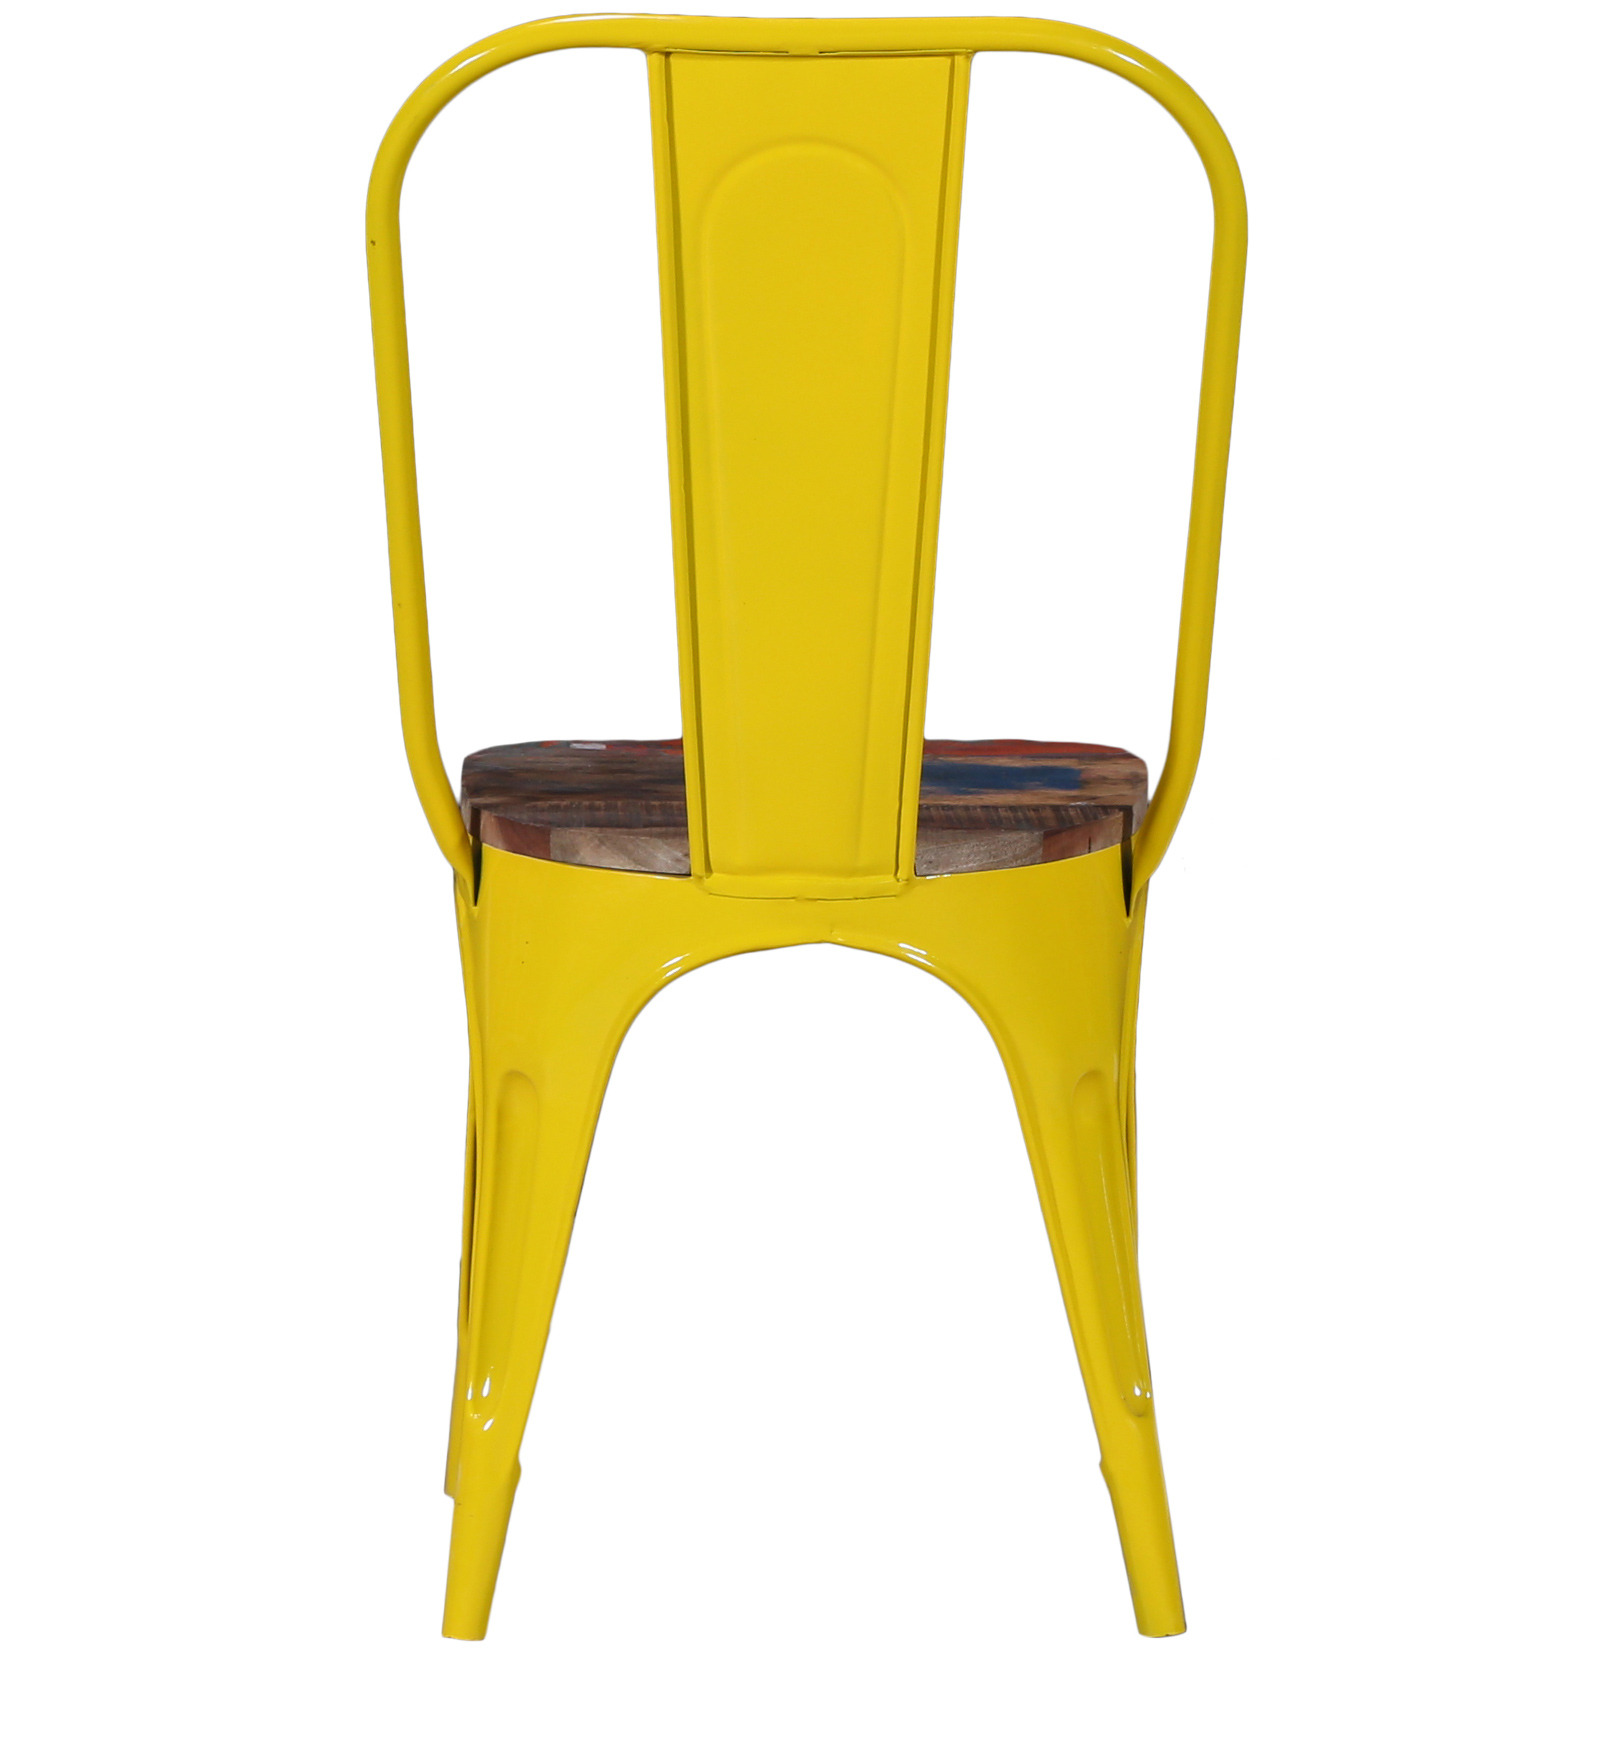Kumtor Metal Chair in Distress Yellow Color with Wooden Seat by Bohemiana: (314, 2, 1309, 1706)
